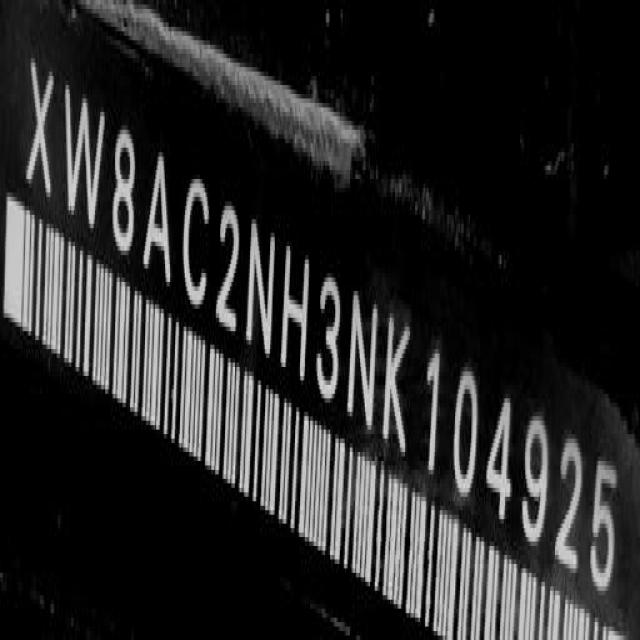0: (454, 357, 482, 508)
1: (419, 336, 444, 486)
2: (556, 428, 586, 584), (216, 197, 242, 349)
3: (316, 269, 343, 410)
4: (487, 391, 514, 529)
5: (590, 448, 620, 602)
8: (112, 126, 138, 264)
9: (522, 404, 550, 562)
A: (146, 148, 176, 294)
C: (182, 175, 213, 322)
H: (281, 236, 312, 388)
K: (382, 300, 411, 458)
N: (349, 282, 382, 438), (247, 216, 279, 371)
W: (62, 77, 104, 241)
X: (25, 55, 55, 216)
